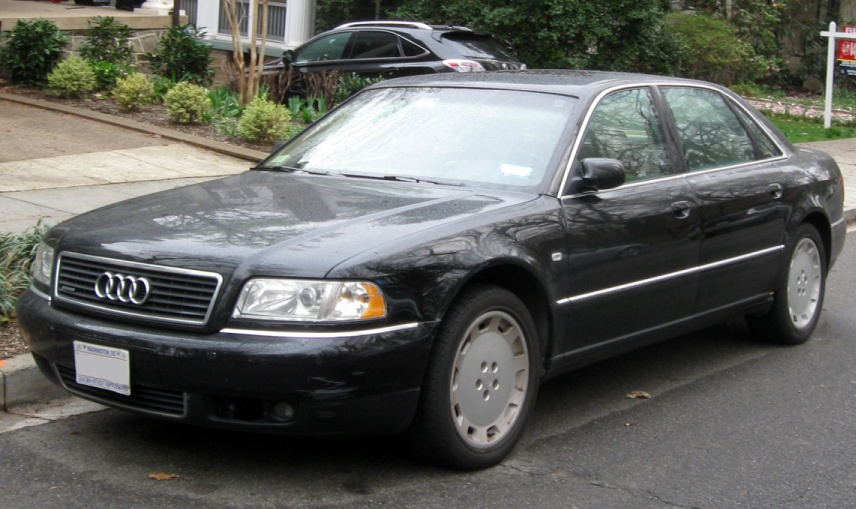audi: (80, 269, 155, 306)
